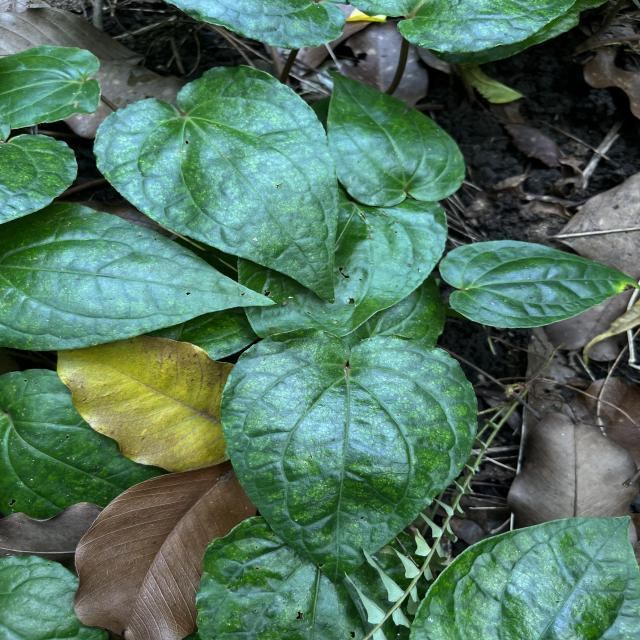Piper betle: (216, 323, 481, 588), (90, 61, 343, 308), (0, 201, 280, 354)
